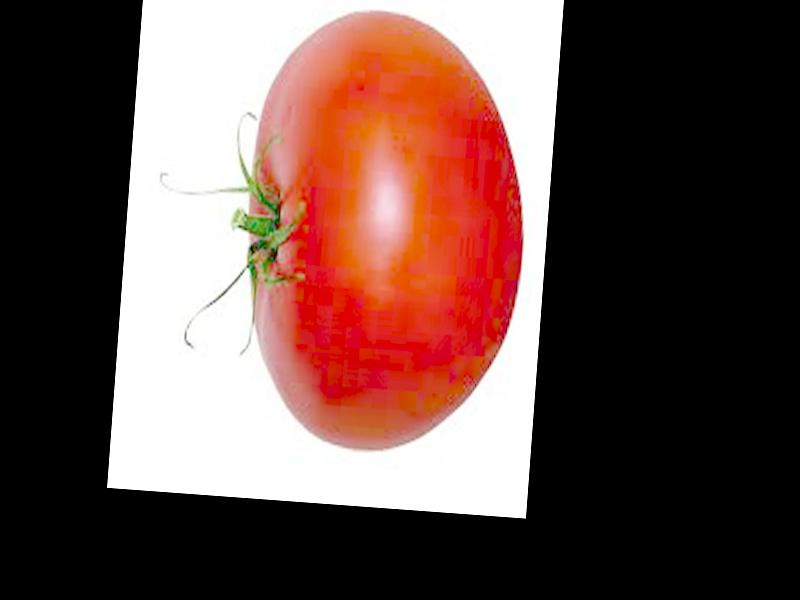Tomato: (232, 6, 537, 457)
